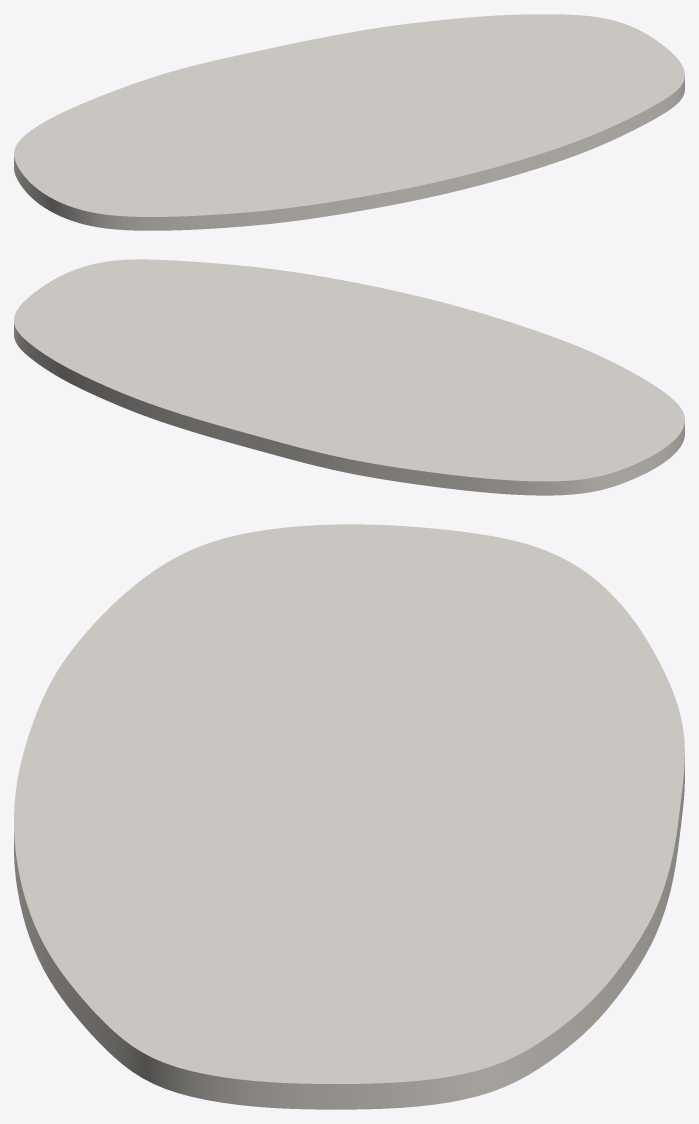
Rendered from pearlwhite_danish_standard_searwalnut.glb.
The picture shows the model from 3 angles, top to bottom: view 1: azimuth 30°, elevation 25°; view 2: azimuth 150°, elevation 25°; view 3: azimuth 270°, elevation 25°; orthographic projection. The views are drawn at different scales.
Visible parts, largest first — view 1: standard_danish; view 2: standard_danish; view 3: standard_danish.
Part boxes in pixels (bbox=[...]): standard_danish: bbox=[14, 14, 684, 230]; standard_danish: bbox=[14, 259, 684, 495]; standard_danish: bbox=[14, 524, 684, 1109].
Size of the model in its own units: 7.5 by 0.16 by 3.8.
1 material, 1 textured.
